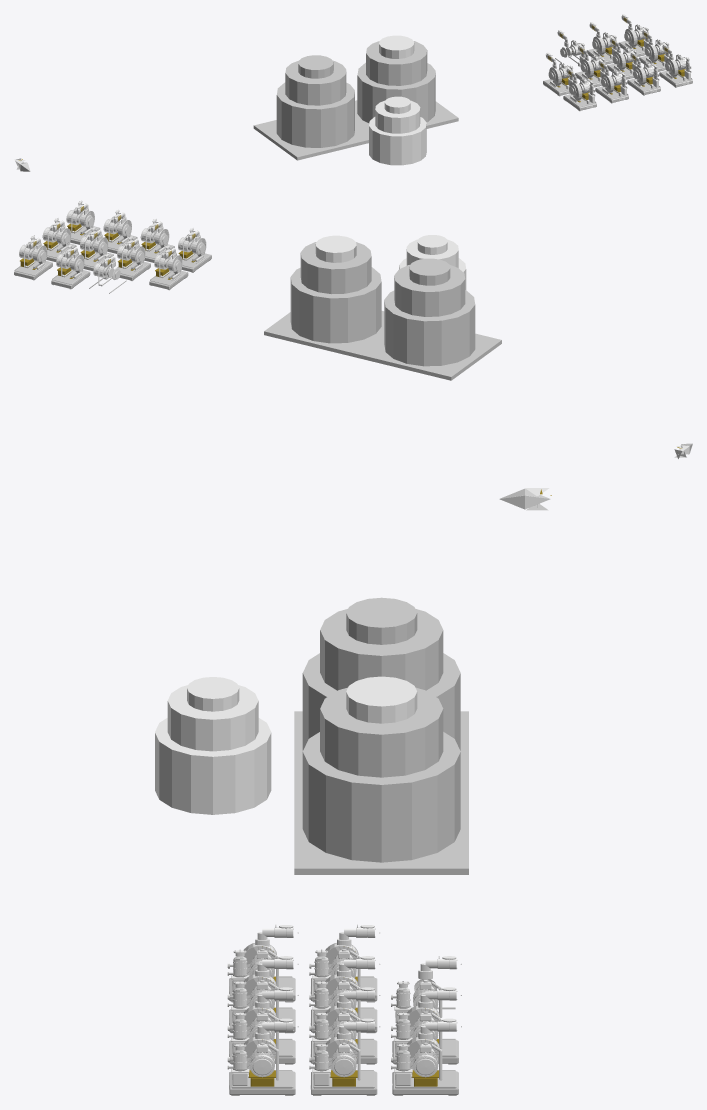
The model's file is xuanshu_interior_C11.glb.
The picture shows the model from 3 angles, top to bottom: view 1: azimuth 30°, elevation 25°; view 2: azimuth 150°, elevation 25°; view 3: azimuth 270°, elevation 25°; orthographic projection. The views are drawn at different scales.
Parts seen in each view (by area): view 1: UNIT-WTR-001_S37659; view 2: UNIT-WTR-001_S37659; view 3: UNIT-WTR-001_S37659.
Part boxes in pixels (bbox=[...]): UNIT-WTR-001_S37659: bbox=[14, 14, 692, 171]; UNIT-WTR-001_S37659: bbox=[14, 200, 692, 458]; UNIT-WTR-001_S37659: bbox=[155, 488, 551, 1095].
Bounding box in the file's own units: 23.46 × 2.85 × 6.71.
